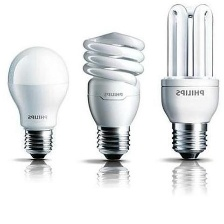light_bulb: (159, 1, 221, 163), (79, 29, 148, 168), (6, 39, 70, 171)
